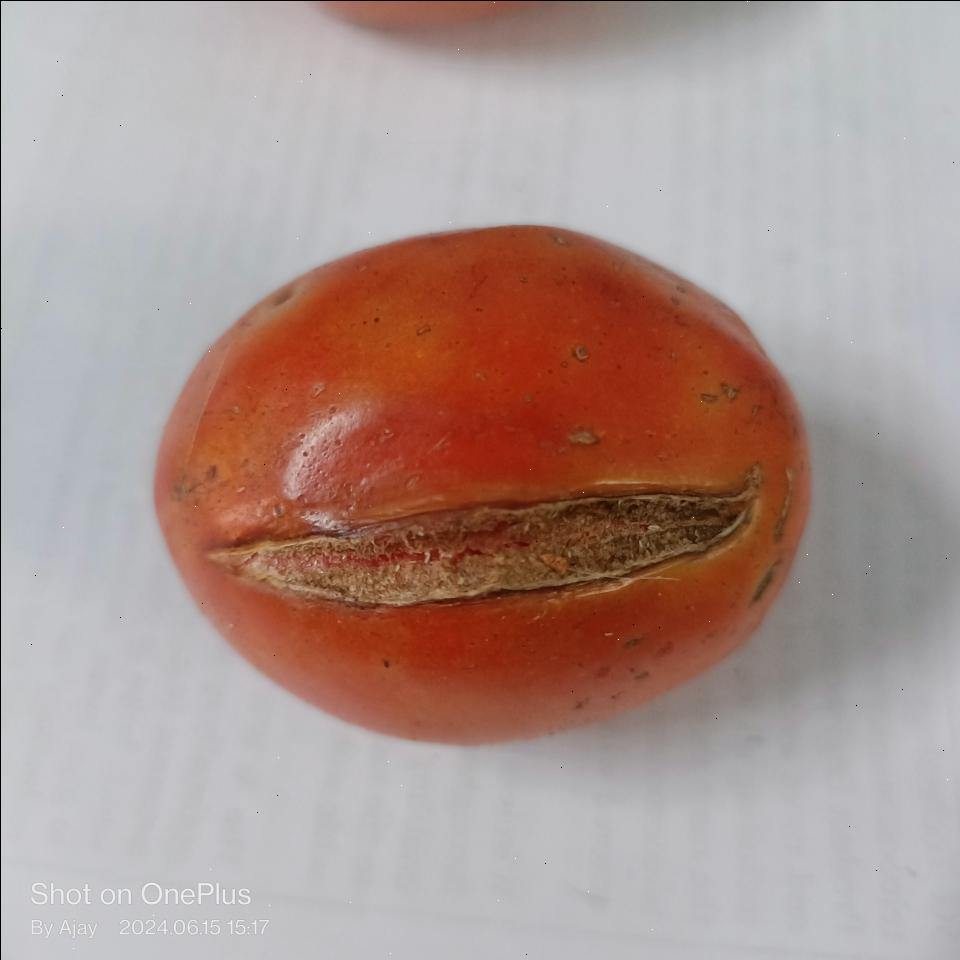Cracking: (184, 446, 766, 630)
